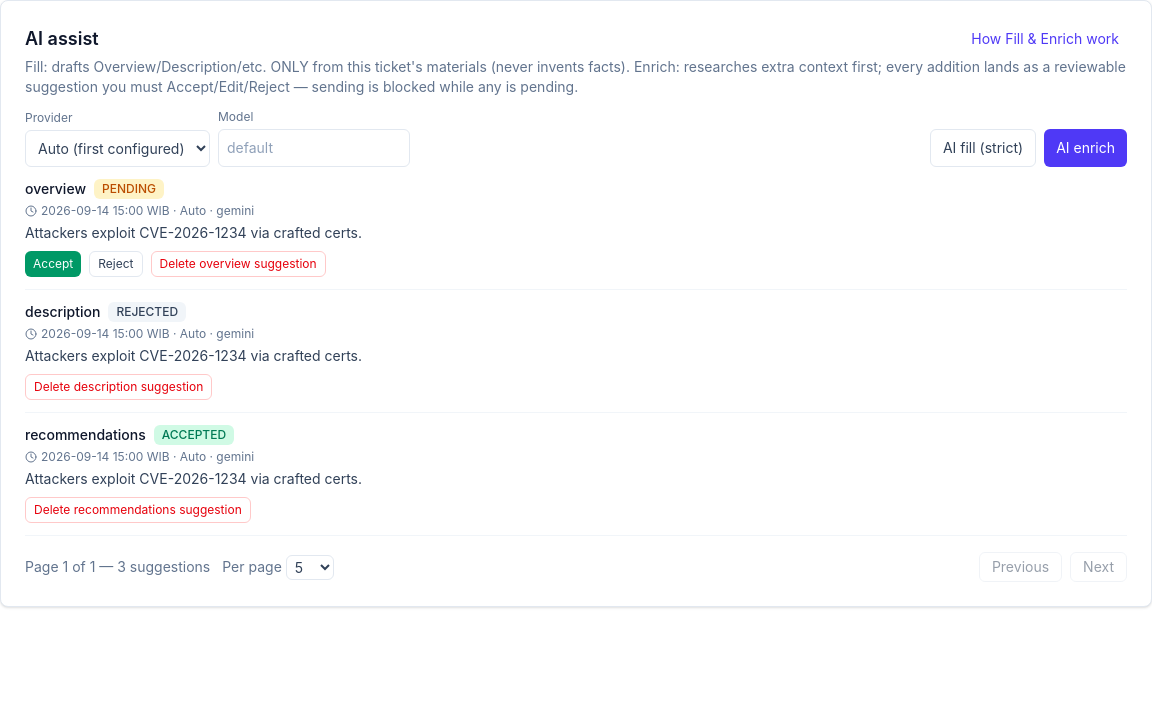
TASK-UIFE: suggestion delete via confirm dialog › DELETEs the row and refetches suggestions after Confirm
This screenshot has width=1152, height=720.
Click the button "Delete overview suggestion" at [238, 264], box [150,251,326,277]
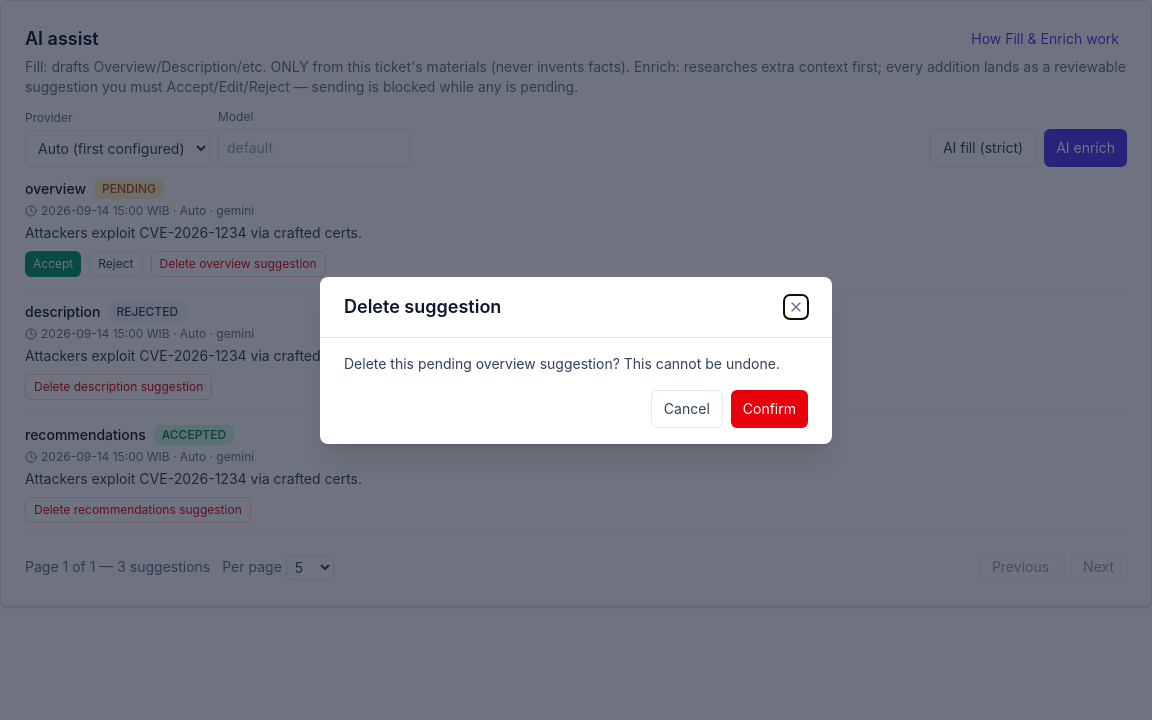
Click the button "Confirm" at [769, 408], box [731,390,808,428]
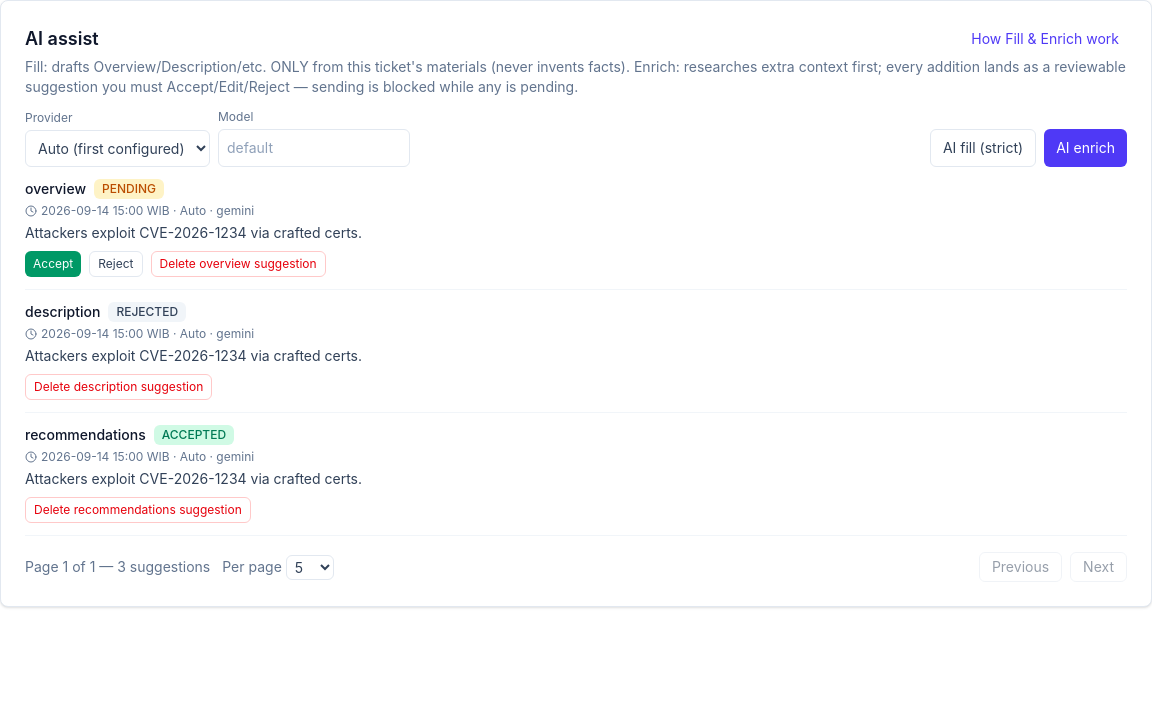
Result: the dialog is gone
